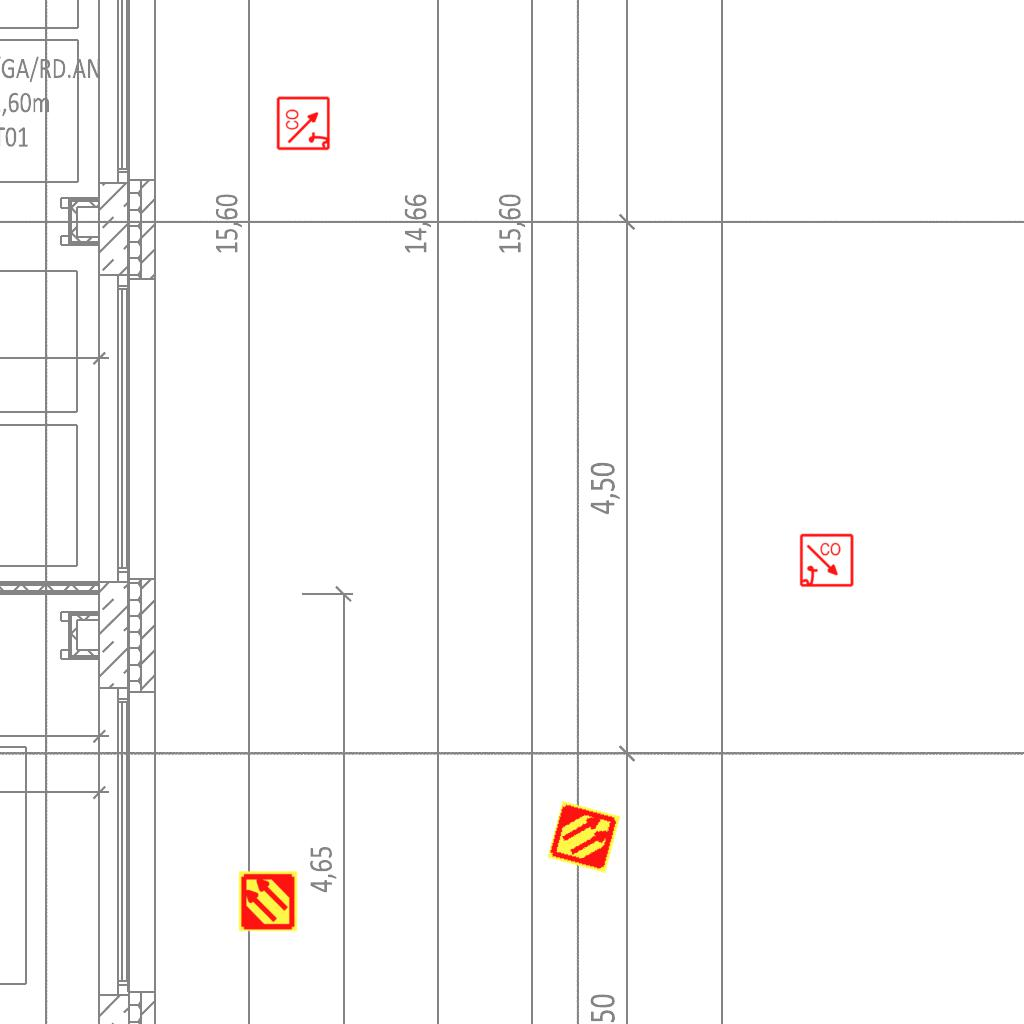ASR_Ansaugrauchmelder: (546, 799, 622, 875), (237, 870, 299, 932)
ROA_Rauchmelder_optisch_mit_Signalgeber_(Sockelsirene): (276, 95, 332, 151), (799, 533, 855, 589)
